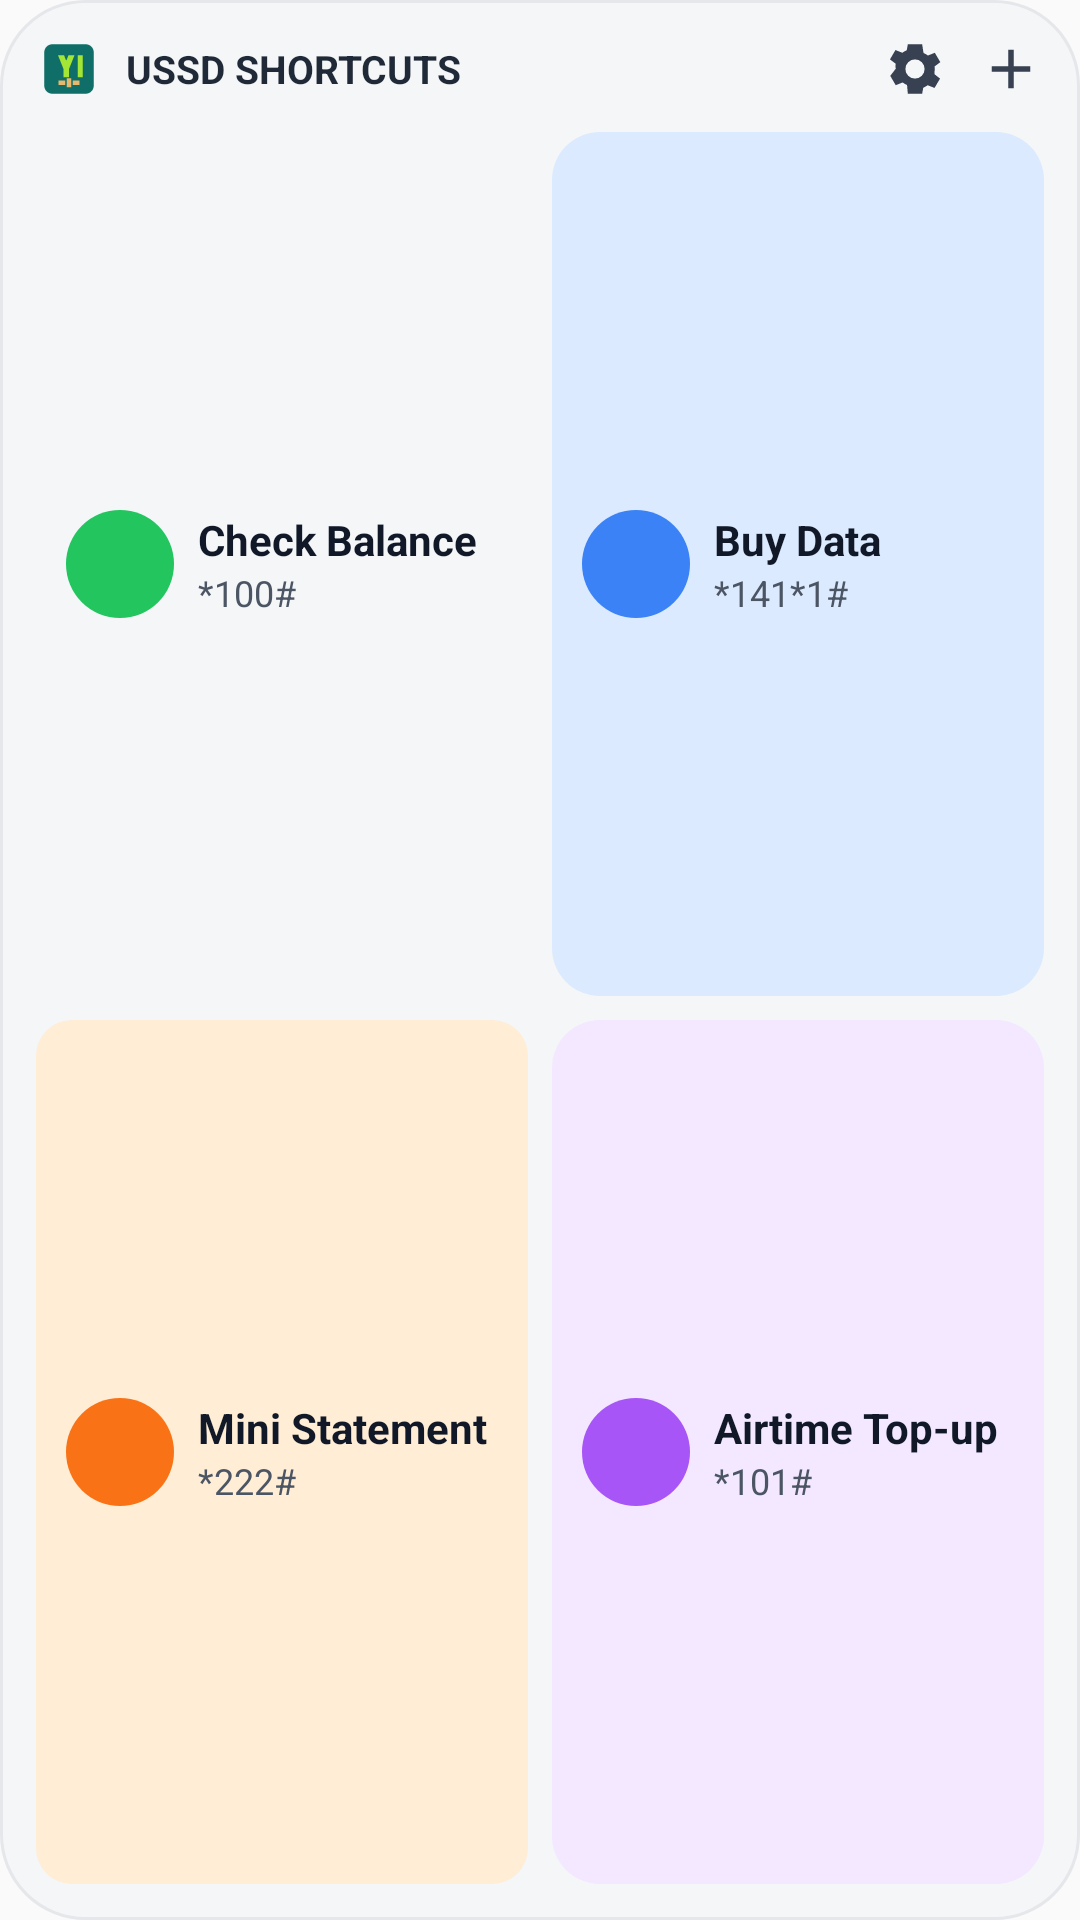

Icons on this 1080w x 1920h Android screen, each with the point to tap as (x=x, y=y):
Add shortcut: (x=1011, y=69)
Widget settings: (x=915, y=69)
